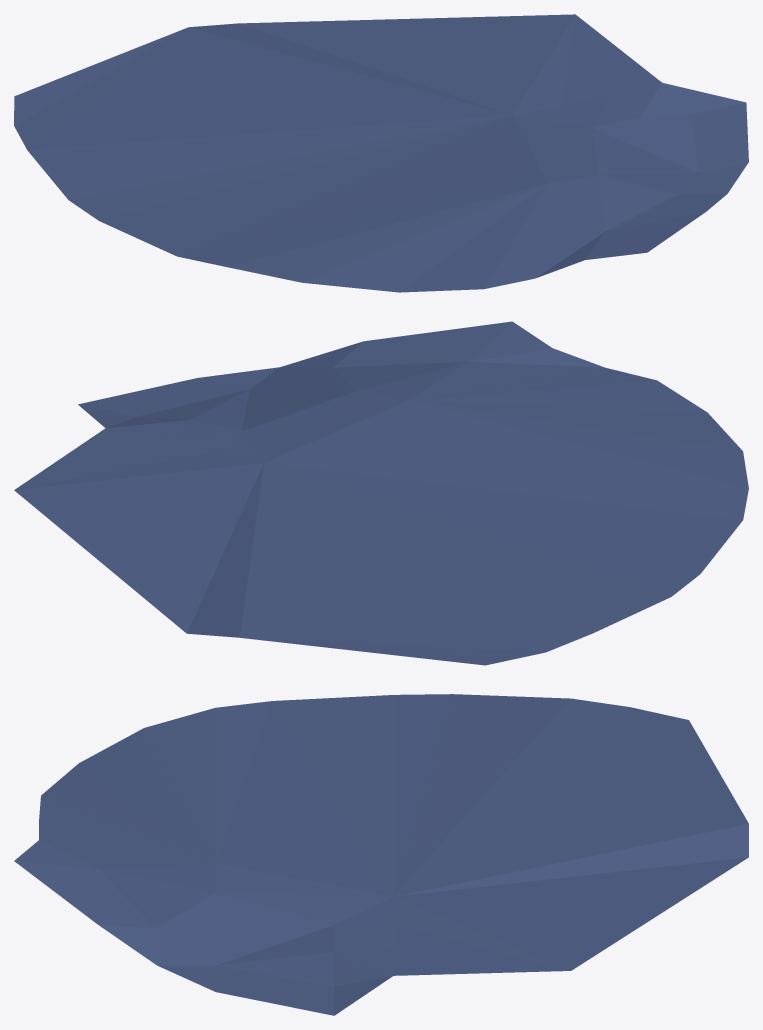
Rendered from ground.dae.
The picture shows the model from 3 angles, top to bottom: view 1: azimuth 30°, elevation 25°; view 2: azimuth 150°, elevation 25°; view 3: azimuth 270°, elevation 25°; orthographic projection. The views are drawn at different scales.
Parts seen in each view (by area): view 1: Grid_003; view 2: Grid_003; view 3: Grid_003.
Part boxes in pixels (left/top/right/bottom): Grid_003: left=14, top=14, right=748, bottom=292; Grid_003: left=14, top=321, right=748, bottom=665; Grid_003: left=14, top=694, right=748, bottom=1015.
Size of the model in its own units: 112 by 112 by 5.24.
